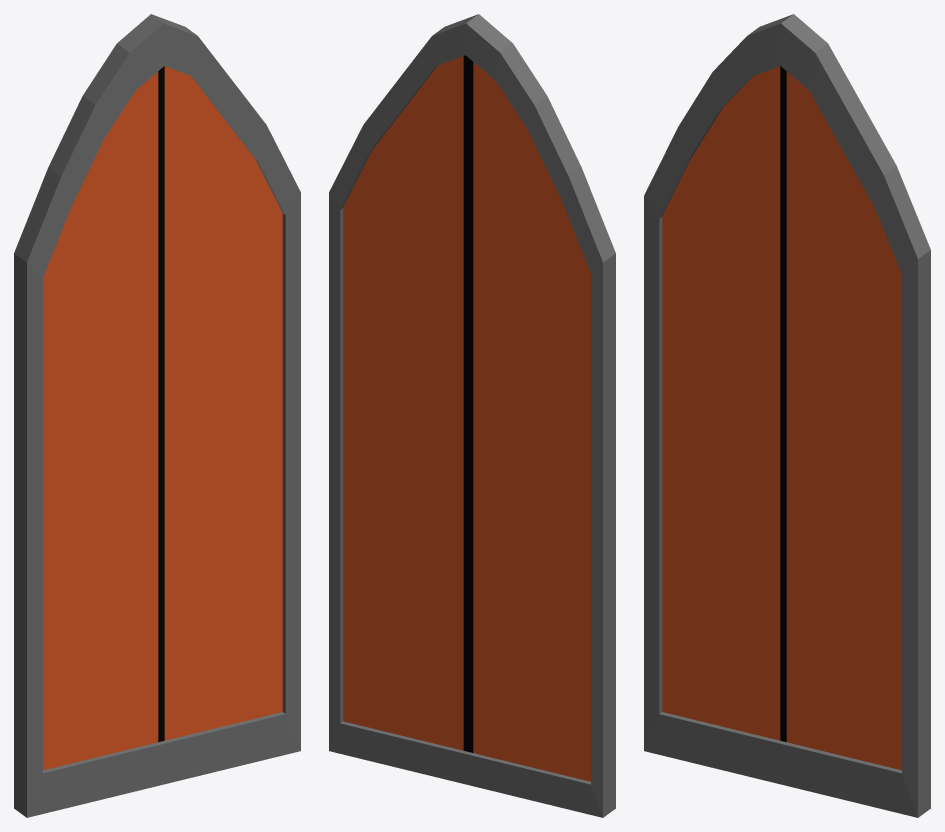
Rendered from Door.fbx.
3 renders of one model, left to right at view 1: azimuth 30°, elevation 25°; view 2: azimuth 150°, elevation 25°; view 3: azimuth 330°, elevation 25°, orthographic.
Visible parts, largest first — view 1: Cube.001; view 2: Cube.001; view 3: Cube.001.
Part boxes in pixels (x1=…): Cube.001: x1=14, y1=14, x2=300, y2=817; Cube.001: x1=329, y1=14, x2=615, y2=817; Cube.001: x1=644, y1=14, x2=930, y2=817.
Bounding box in the file's own units: 2 × 5.31 × 0.1722.
